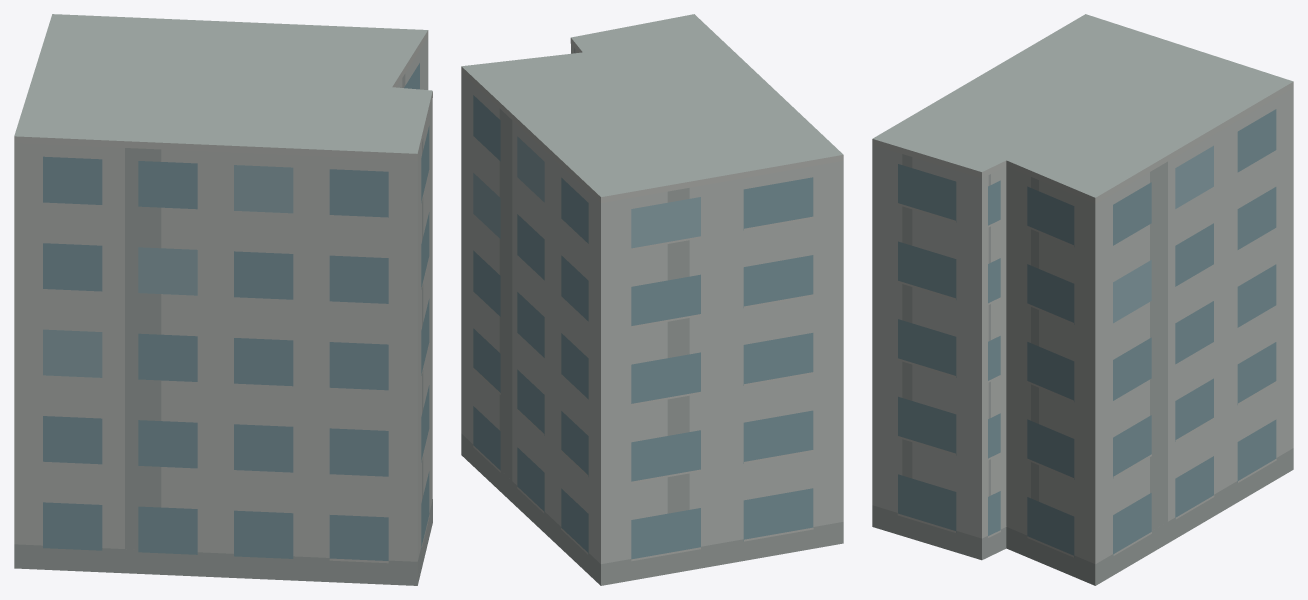
Rendered from survey-upis-32808864.glb.
3 views of the same model, side by side, from view 1: azimuth 30°, elevation 25°; view 2: azimuth 150°, elevation 25°; view 3: azimuth 270°, elevation 25° (orthographic). The views are drawn at different scales.
Visible parts, largest first — view 1: survey-upis-32808864.tmp; view 2: survey-upis-32808864.tmp; view 3: survey-upis-32808864.tmp.
Boxes of the visible parts, bbox=[...] form: survey-upis-32808864.tmp: bbox=[14, 14, 432, 585]; survey-upis-32808864.tmp: bbox=[461, 14, 843, 585]; survey-upis-32808864.tmp: bbox=[872, 14, 1293, 585].
Bounding box in the file's own units: 15.86 × 15.6 × 15.36.
